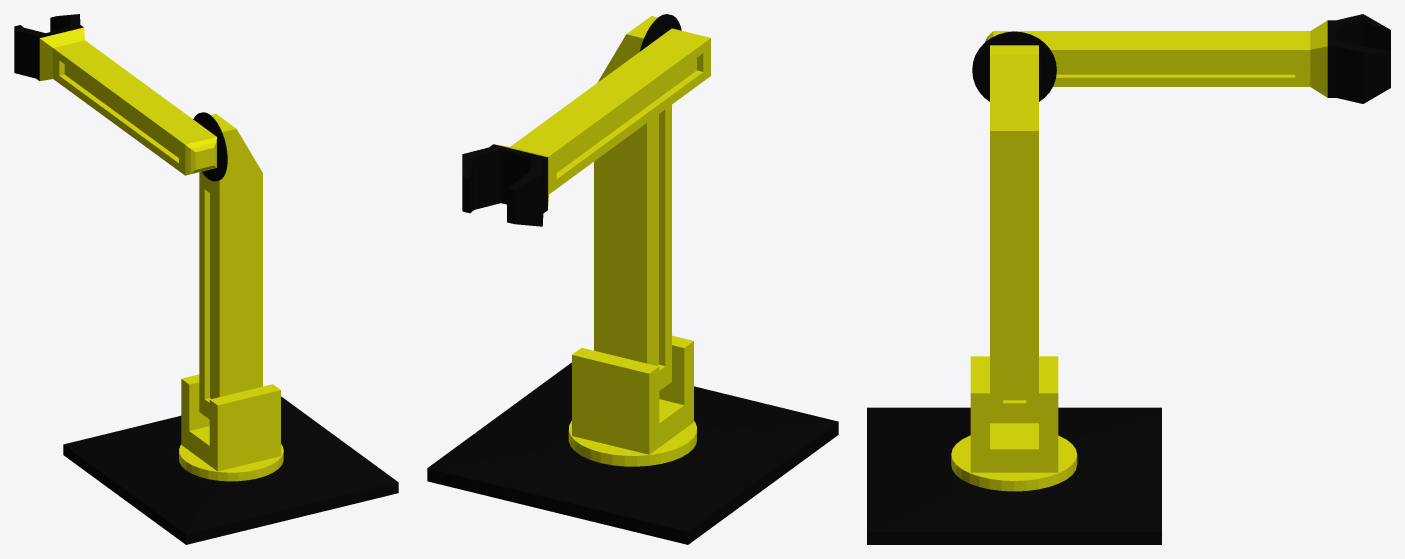
Rendered from Arm.fbx.
3 views of the same model, side by side, from view 1: azimuth 30°, elevation 25°; view 2: azimuth 150°, elevation 25°; view 3: azimuth 270°, elevation 25° (orthographic). The views are drawn at different scales.
Visible parts, largest first — view 1: Platform, Arm1, Arm2, Axis, Arm2.001, Circle; view 2: Platform, Arm1, Axis, Arm2, Arm2.001, Circle; view 3: Platform, Arm1, Arm2, Axis, Arm2.001, Circle.
Boxes of the visible parts, left/top/right/bottom form: Platform: left=63, top=396, right=398, bottom=544; Arm1: left=199, top=114, right=262, bottom=419; Arm2: left=39, top=27, right=216, bottom=175; Axis: left=179, top=374, right=283, bottom=481; Arm2.001: left=14, top=14, right=83, bottom=80; Circle: left=193, top=112, right=227, bottom=181; Platform: left=427, top=362, right=838, bottom=544; Arm1: left=594, top=16, right=671, bottom=390; Axis: left=568, top=335, right=696, bottom=466; Arm2: left=496, top=28, right=710, bottom=206; Arm2.001: left=462, top=144, right=547, bottom=226; Circle: left=639, top=14, right=681, bottom=51; Platform: left=867, top=407, right=1161, bottom=544; Arm1: left=990, top=45, right=1038, bottom=423; Arm2: left=985, top=20, right=1327, bottom=97; Axis: left=951, top=356, right=1077, bottom=491; Arm2.001: left=1327, top=14, right=1390, bottom=103; Circle: left=972, top=31, right=1056, bottom=101.
Size of the model in its own units: 200 by 328 by 355.
